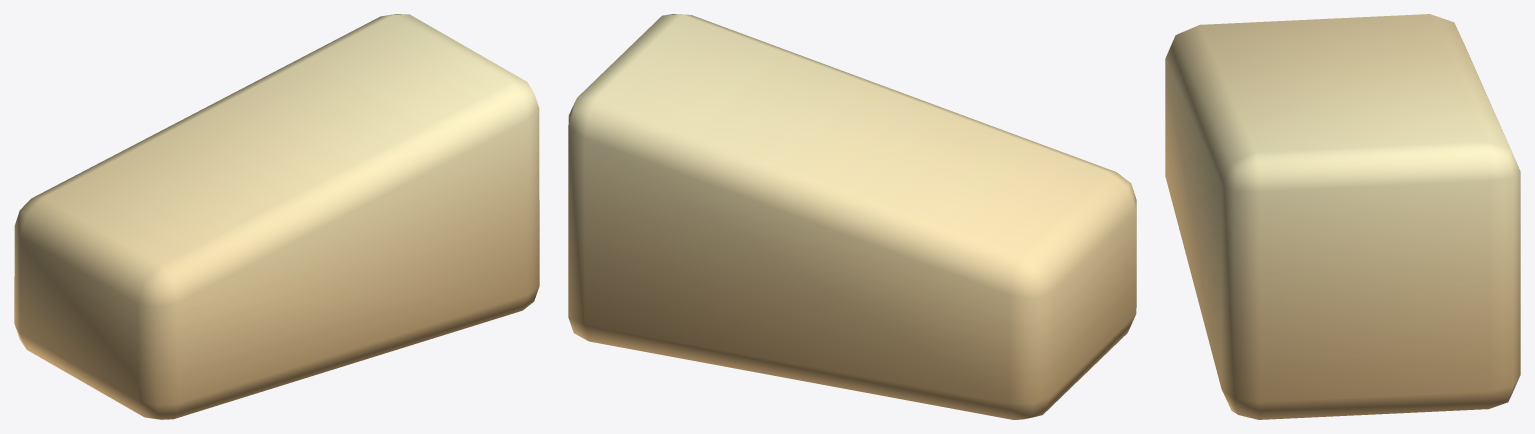
File: Butter.glb
3 renders of one model, left to right at view 1: azimuth 30°, elevation 25°; view 2: azimuth 150°, elevation 25°; view 3: azimuth 270°, elevation 25°, orthographic. The views are drawn at different scales.
Visible parts, largest first — view 1: Butter; view 2: Butter; view 3: Butter.
Part boxes in pixels (left/top/right/bottom): Butter: left=14, top=14, right=539, bottom=419; Butter: left=568, top=14, right=1136, bottom=419; Butter: left=1165, top=14, right=1520, bottom=419.
Bounding box in the file's own units: 0.1975 × 0.0973 × 0.1174.
1 material, 1 textured.
